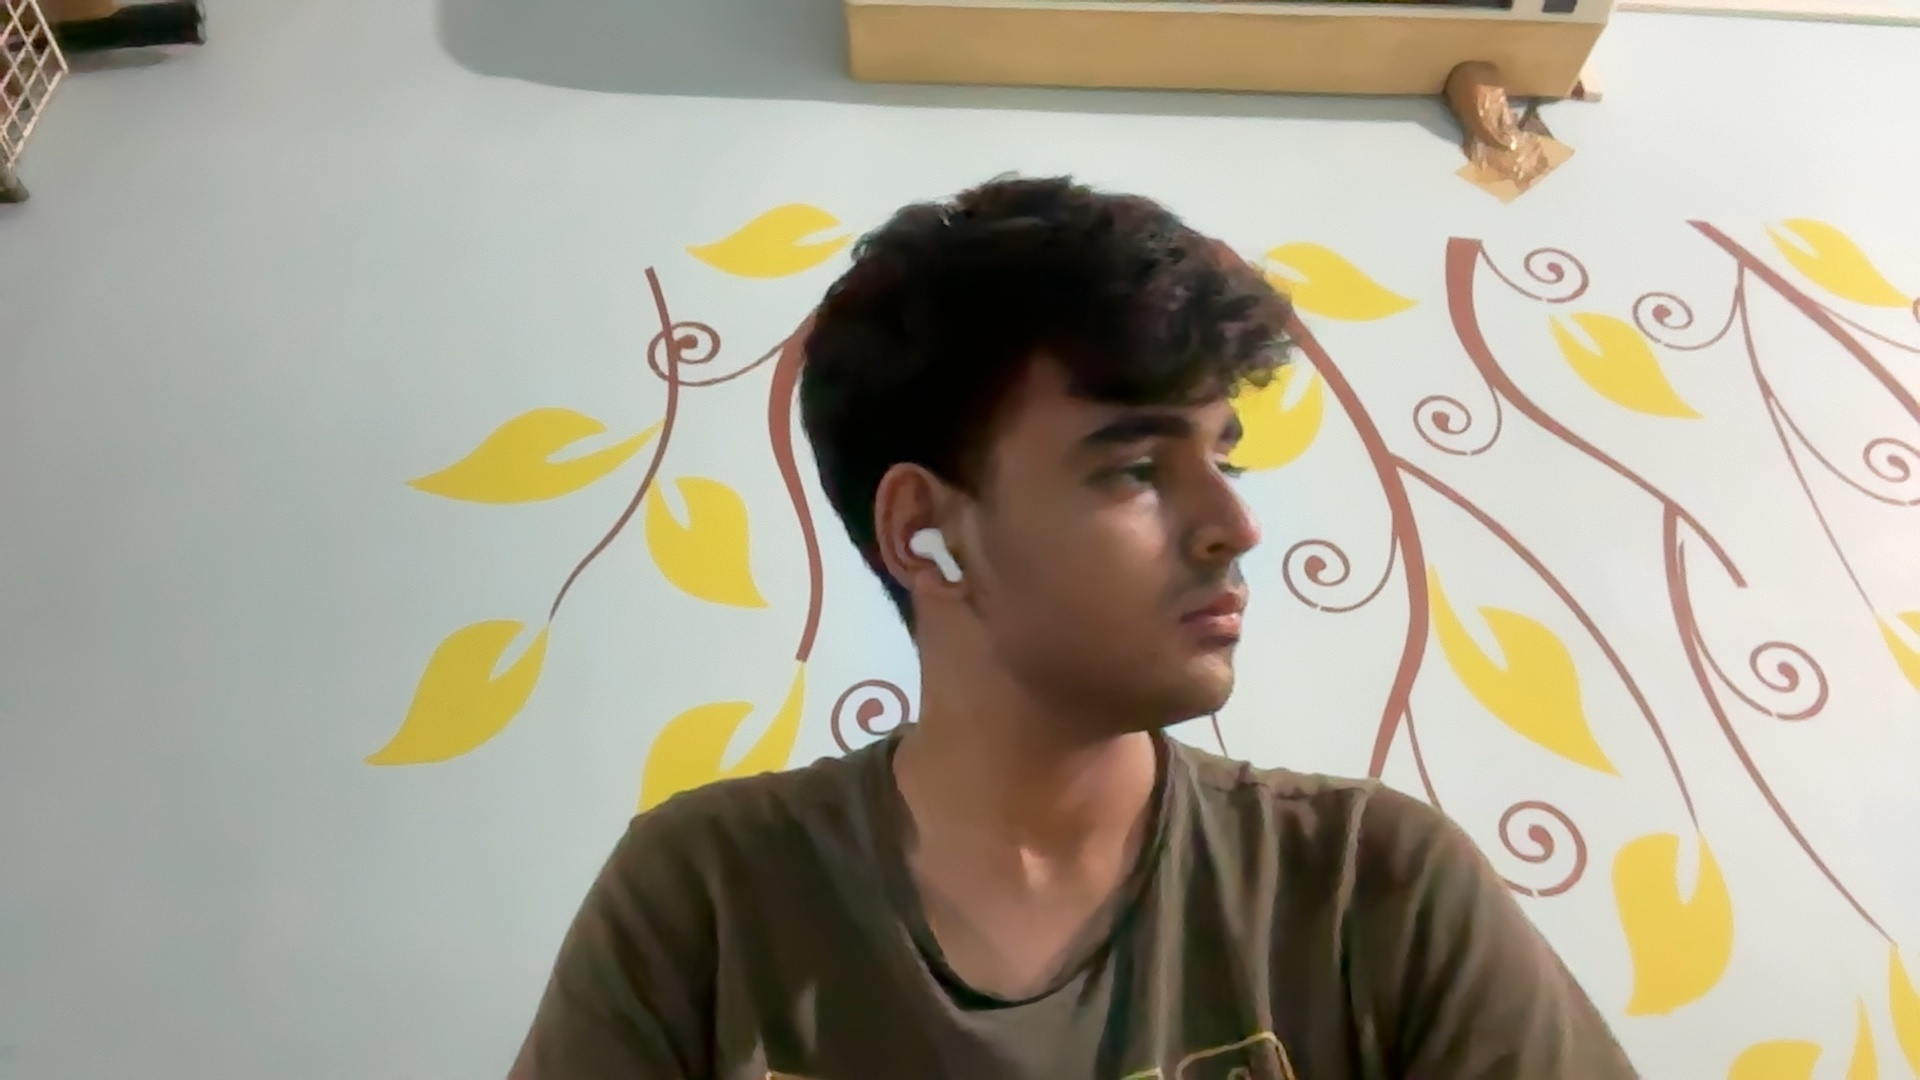No Mask: (965, 502, 1260, 728)
